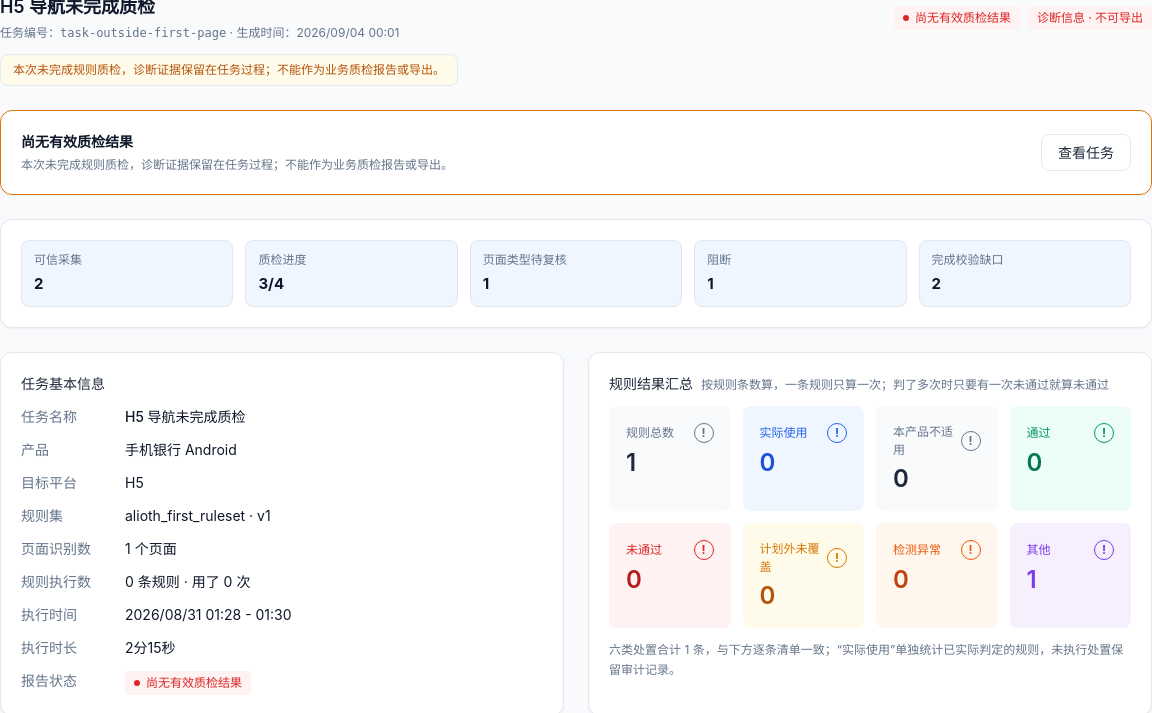
Test: ReportCenterView 报告详情 › H5 无真实质检结果时保留诊断和任务入口，不能显示报告成功或导出
Expected: the element with test id "report-state" reads "尚无有效质检结果", [915,10,1011,24]
Expected: the element with test id "report-none-notice" shows "诊断证据保留在任务过程", [21,157,453,172]
Click the button "查看任务" at (1086, 152), box [1041,134,1131,171]
(page scrolled)
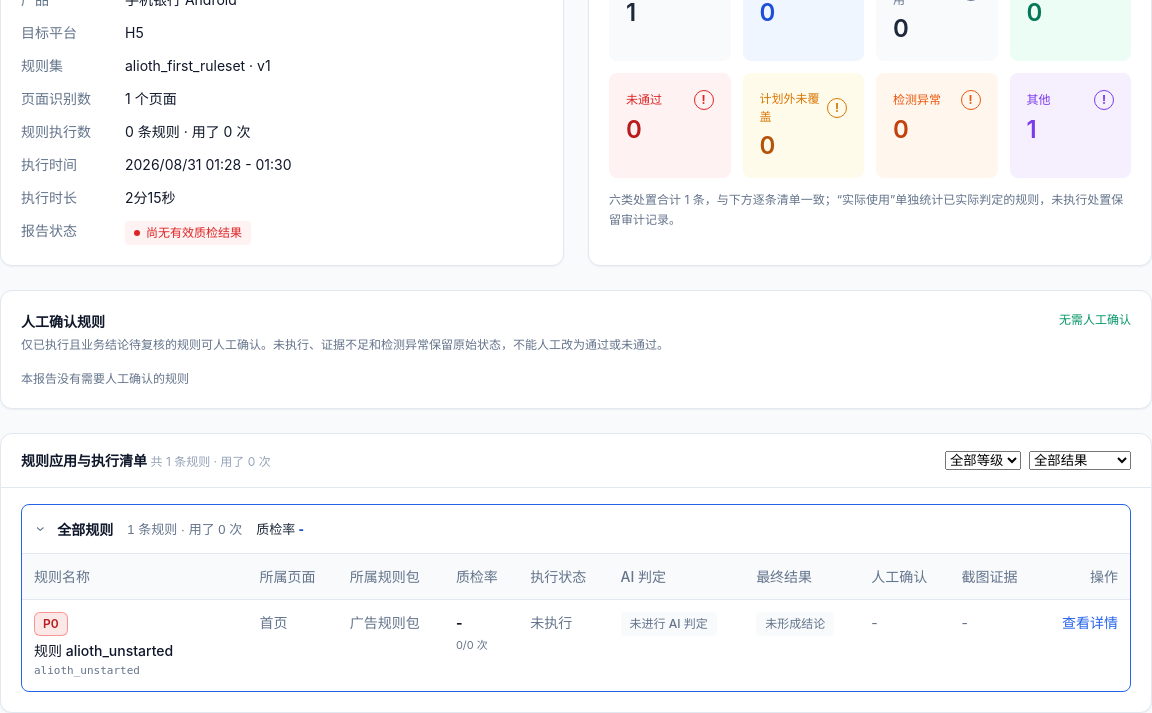
Click the button with test id "rule-detail-alioth_unstarted" at (1090, 622), box [1062,612,1118,632]
(page scrolled)
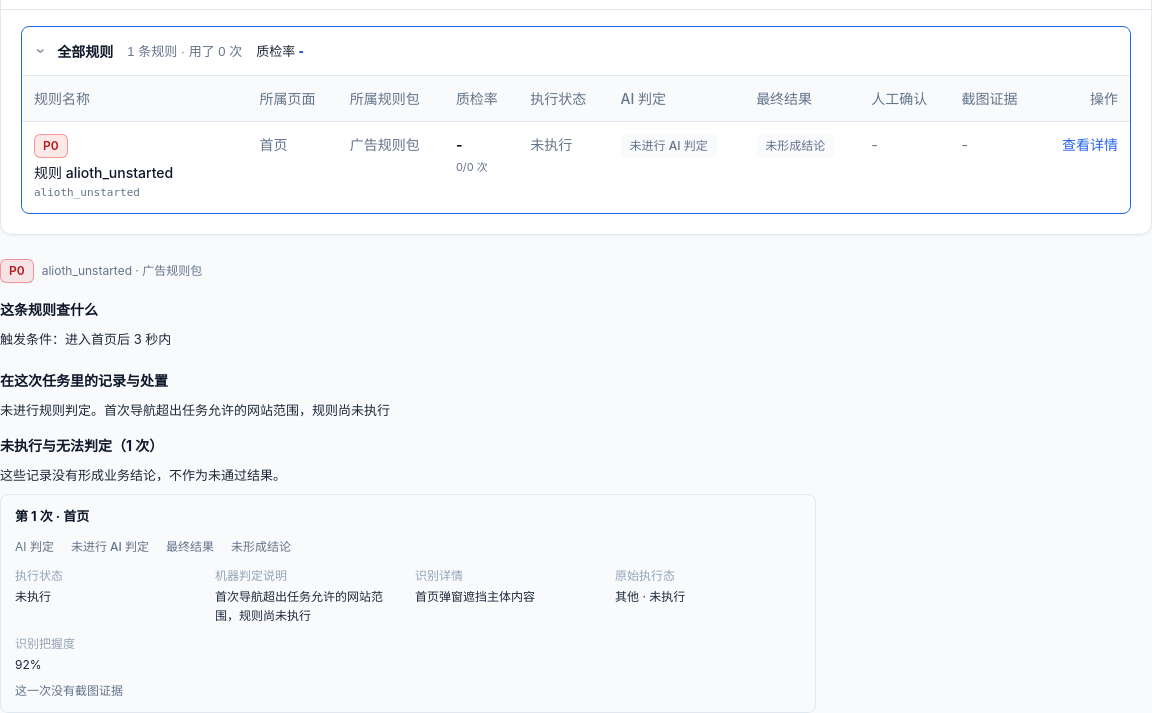
Result: the element with test id "rule-usage-dialog" shows "首次导航超出任务允许的网站范围，规则尚未执行" at [215,589,383,623]
